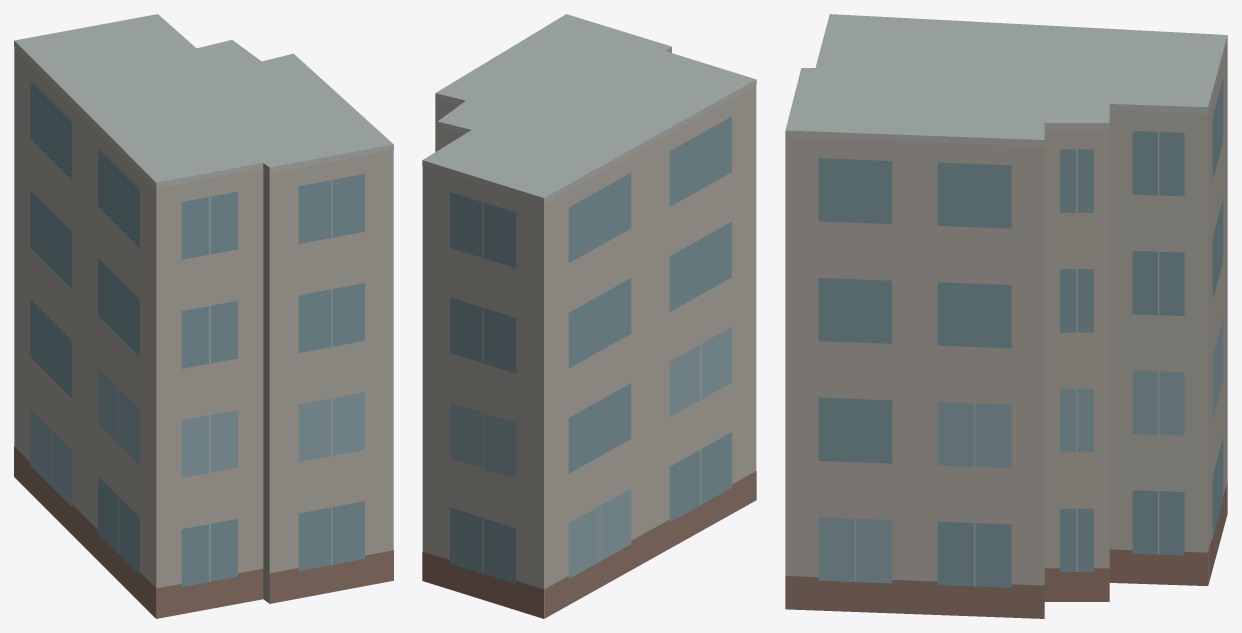
The model's file is survey-upis-32975091.glb.
The picture shows the model from 3 angles, left to right: view 1: azimuth 30°, elevation 25°; view 2: azimuth 150°, elevation 25°; view 3: azimuth 270°, elevation 25°; orthographic projection. The views are drawn at different scales.
Visible parts, largest first — view 1: survey-upis-32975091.tmp; view 2: survey-upis-32975091.tmp; view 3: survey-upis-32975091.tmp.
Part boxes in pixels (x1,y1,x2,y2): survey-upis-32975091.tmp: (14,14,393,618); survey-upis-32975091.tmp: (422,14,756,618); survey-upis-32975091.tmp: (785,14,1227,618).
Size of the model in its own units: 10.2 by 18.05 by 15.11.
